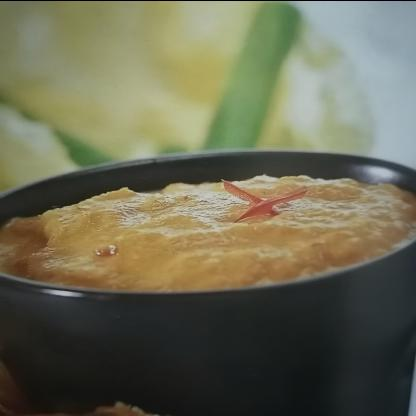Kaithoon: (2, 129, 415, 300)
